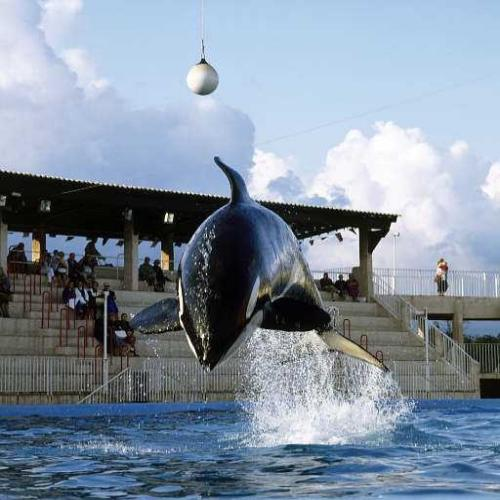killer_whale-endangered: (130, 142, 398, 386)
